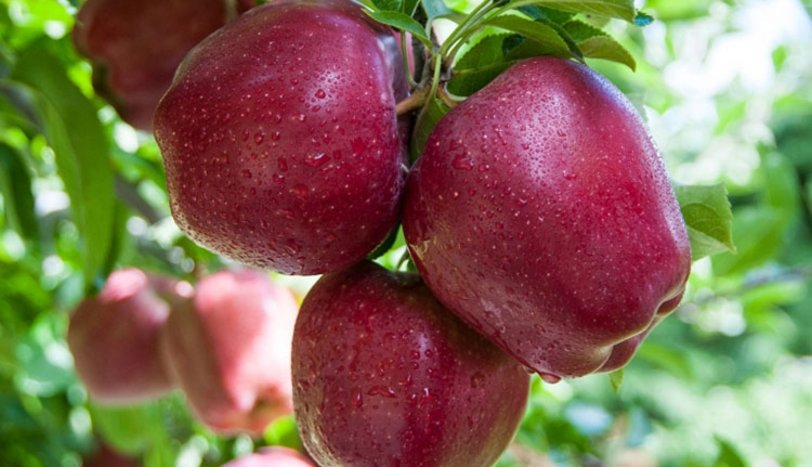apple: (407, 66, 717, 387)
